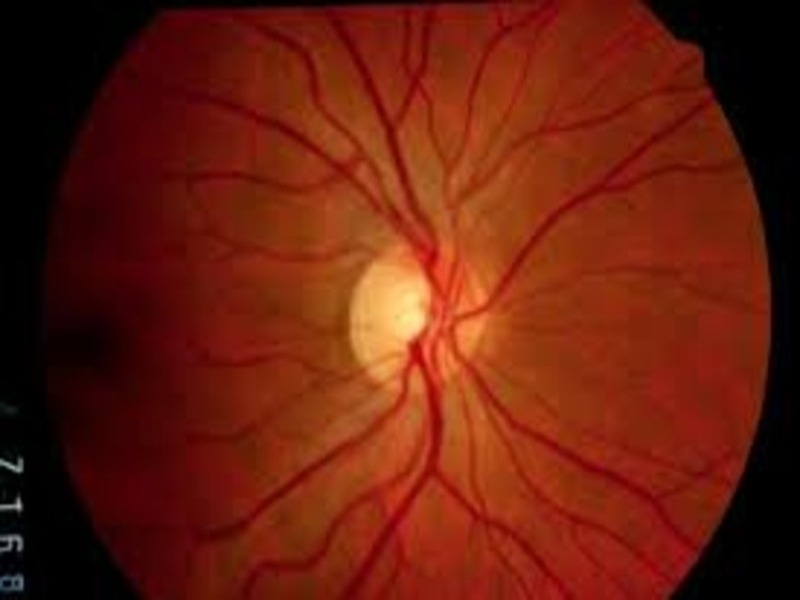Optic Cup: (347, 248, 424, 388)
Optic Disc: (421, 245, 488, 389)
